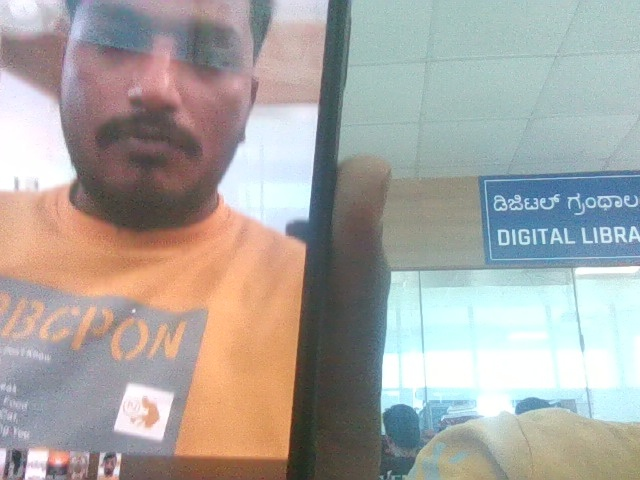fake: (33, 0, 294, 370)
